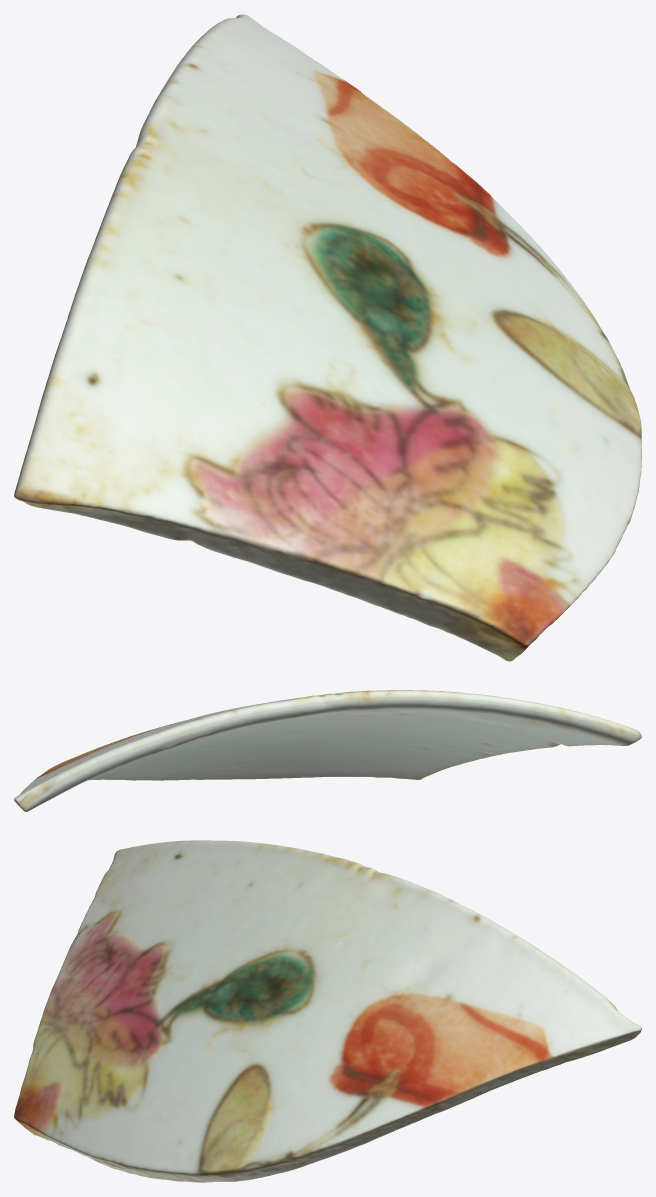
3 views of the same model, one above another, from view 1: azimuth 30°, elevation 25°; view 2: azimuth 150°, elevation 25°; view 3: azimuth 270°, elevation 25° (orthographic). The views are drawn at different scales.
Parts seen in each view (by area): view 1: Node; view 2: Node; view 3: Node.
Part boxes in pixels (left/top/right/bottom): Node: left=14, top=14, right=641, bottom=661; Node: left=14, top=690, right=641, bottom=811; Node: left=14, top=840, right=641, bottom=1182.
Size of the model in its own units: 58.71 by 27.42 by 67.47.
1 material, 1 textured.
